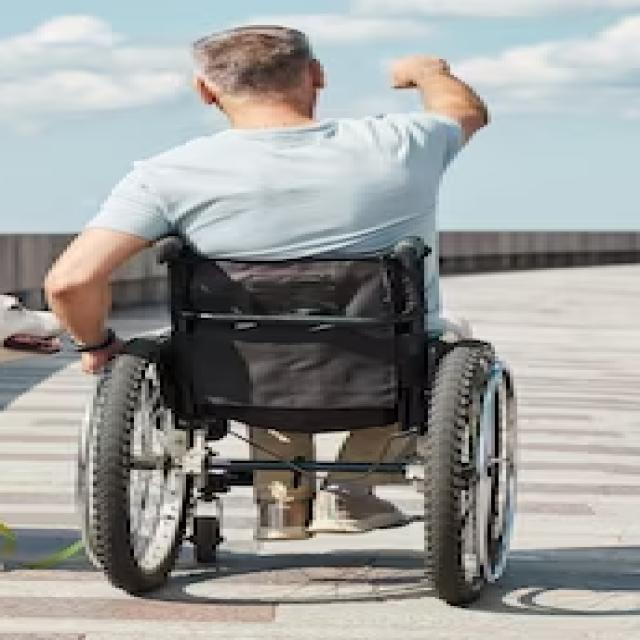wheelchair: (46, 23, 523, 606)
